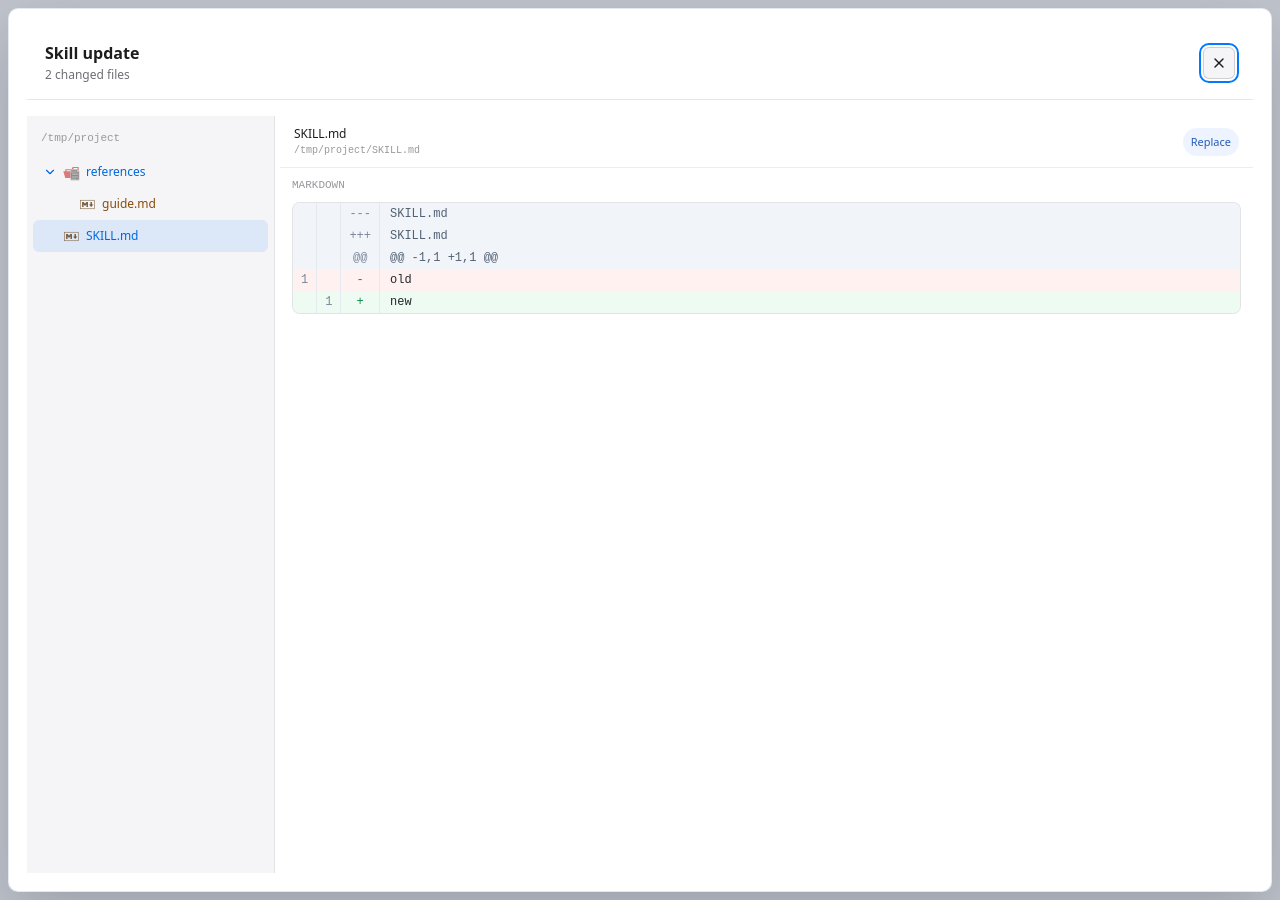
it: DiffWorkspaceDialog › shows only files that have selectable preview content
expect the text "/tmp/project" is shown: met, box [41,132,120,144]
expect the 1st picture is shown: met, box [63,164,80,180]
Click the button "guide.md".
click(150, 204)  # box [33,188,268,220]
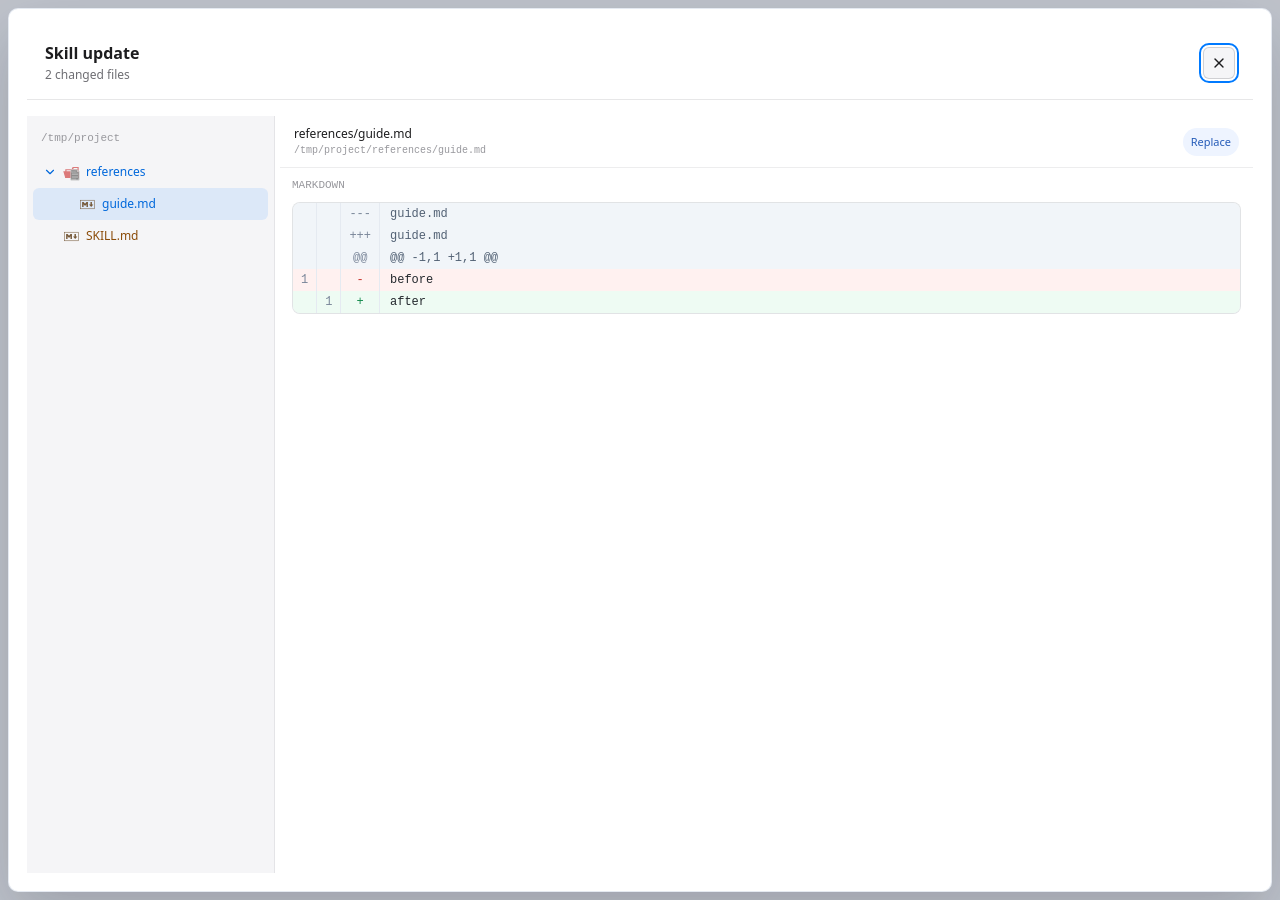
expect the table named "Formatted diff for /tmp/project/references/guide.md" shows "after": met, box [390,295,426,309]
